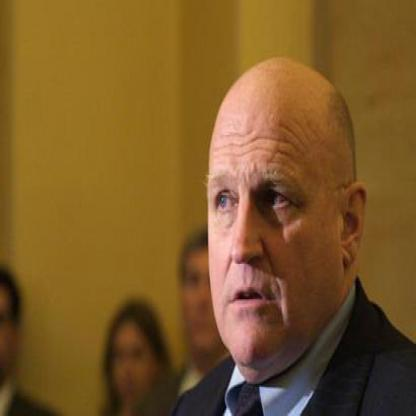face: (197, 59, 344, 377), (180, 233, 237, 351), (112, 311, 154, 406)
